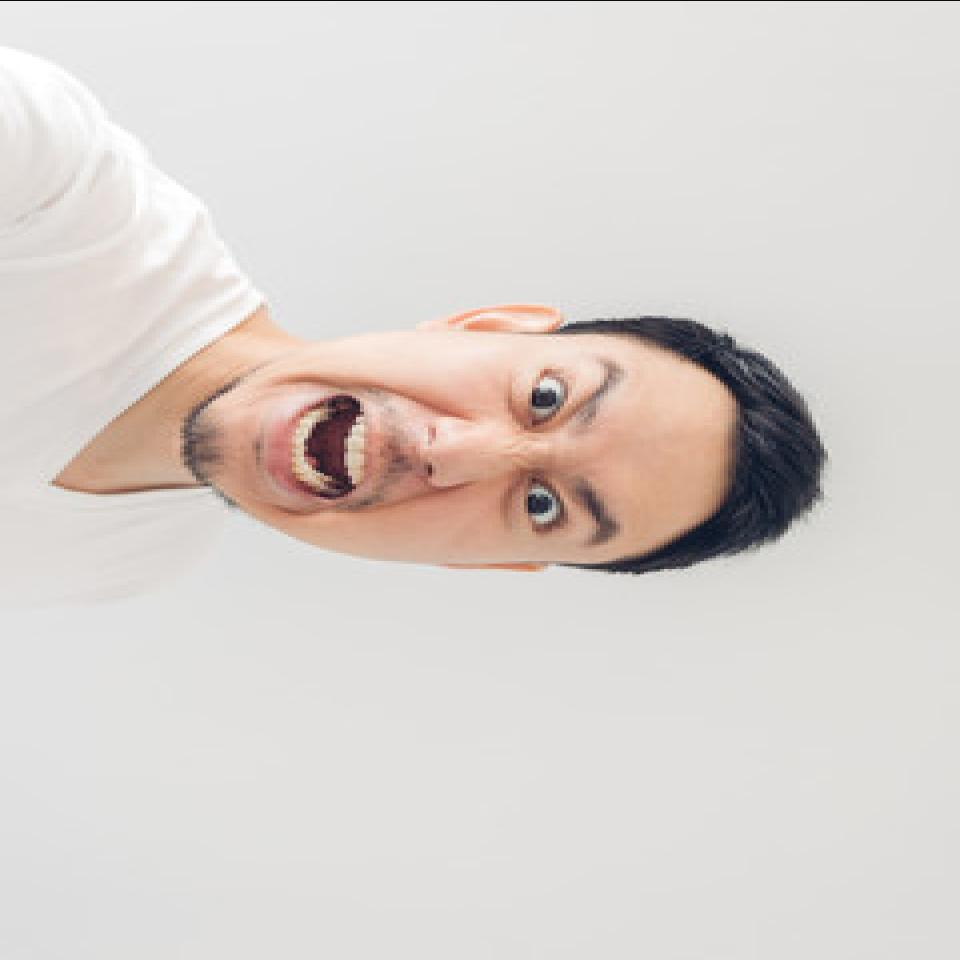Anger: (198, 346, 640, 558)
